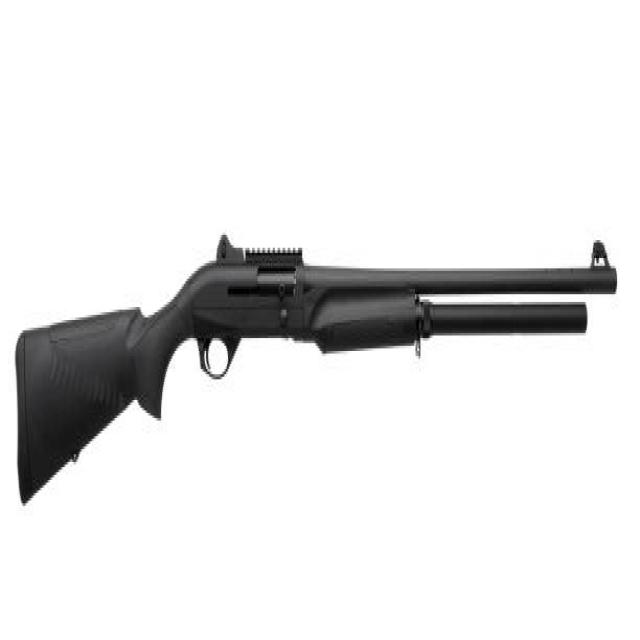rifle: (12, 212, 622, 528)
